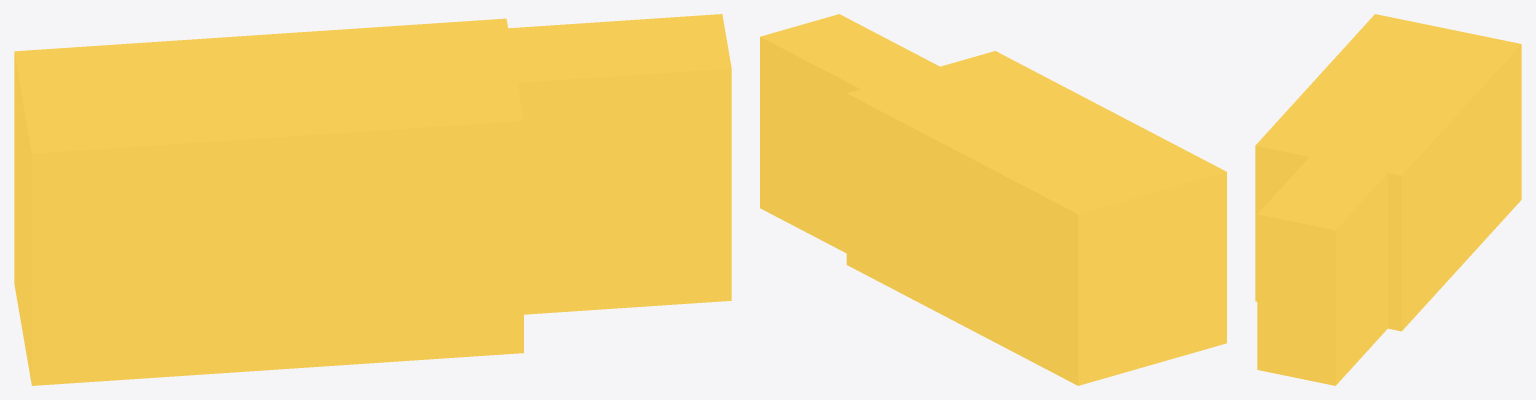
File: YES DAY.fbx
3 renders of one model, left to right at view 1: azimuth 30°, elevation 25°; view 2: azimuth 150°, elevation 25°; view 3: azimuth 270°, elevation 25°, orthographic. The views are drawn at different scales.
Visible parts, largest first — view 1: ROUTE; view 2: ROUTE; view 3: ROUTE.
Part boxes in pixels (<box>): ROUTE: <box>14,14,731,385</box>; ROUTE: <box>760,14,1226,385</box>; ROUTE: <box>1255,14,1521,385</box>.
Bounding box in the file's own units: 28.22 × 14.7 × 9.47.
